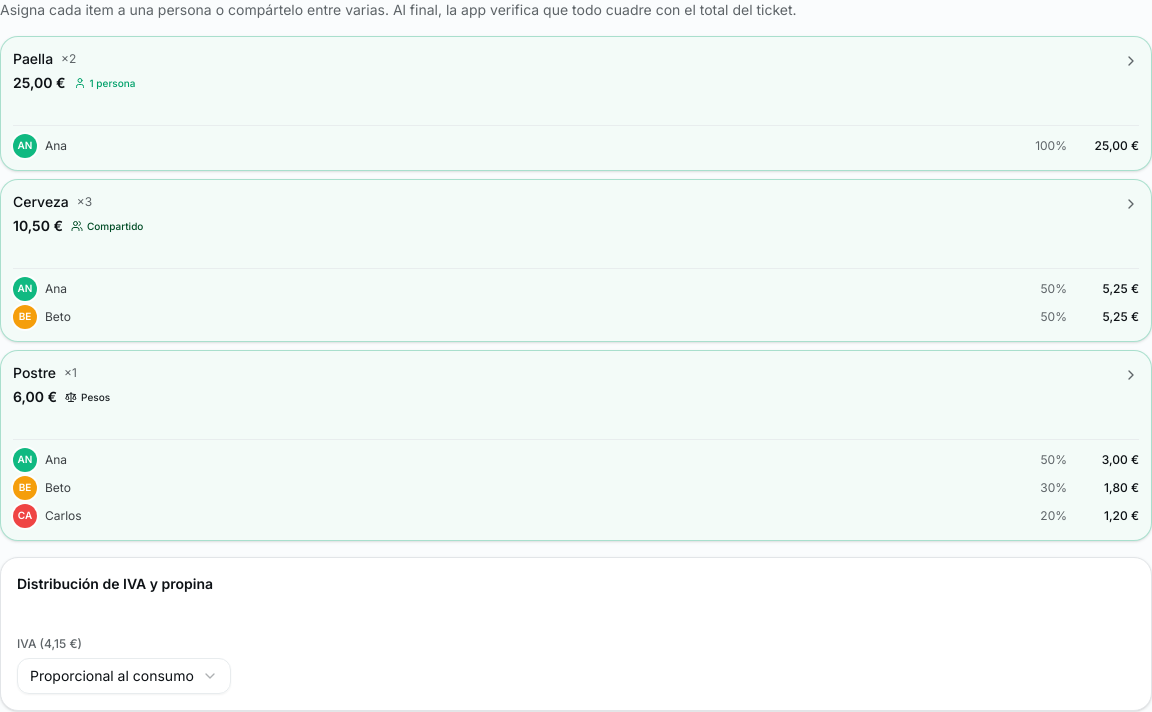
it: AssignmentEditor › opens Sheet when clicking an item row
This screenshot has width=1152, height=712.
Note: Click the first item row (Paella)
Click the heading "Paella" at (33, 59), box [13,49,53,69]
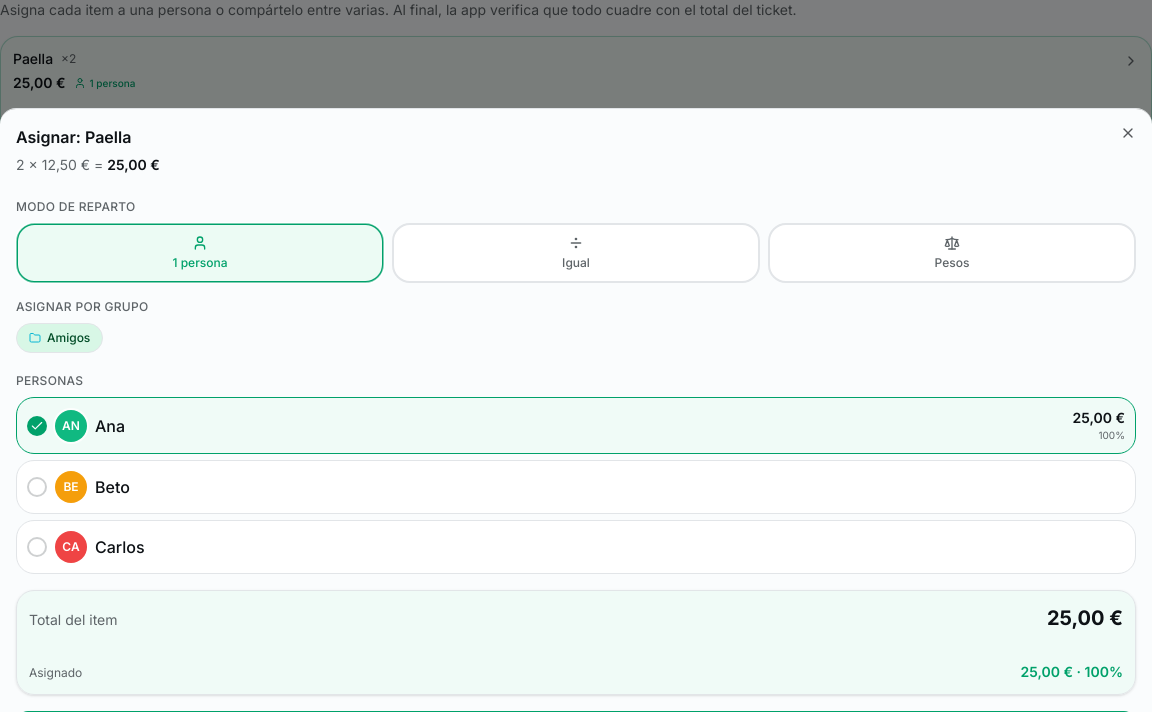
Now the heading "Asignar: Paella" is shown, box [16,127,131,147]
